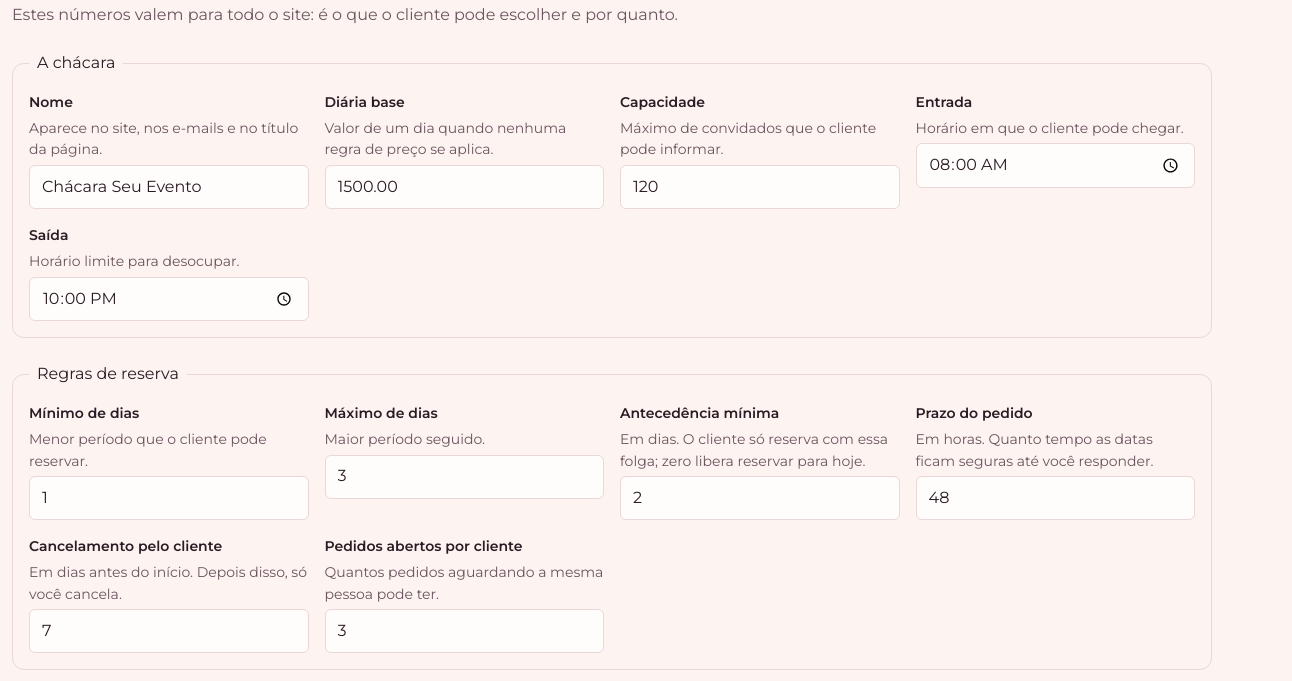
Scenario: SettingsPage › salva e avisa
Replace the text in the number field labelled "Capacidade" with "90" at (760, 187), box [620,165,900,209]
(page scrolled)
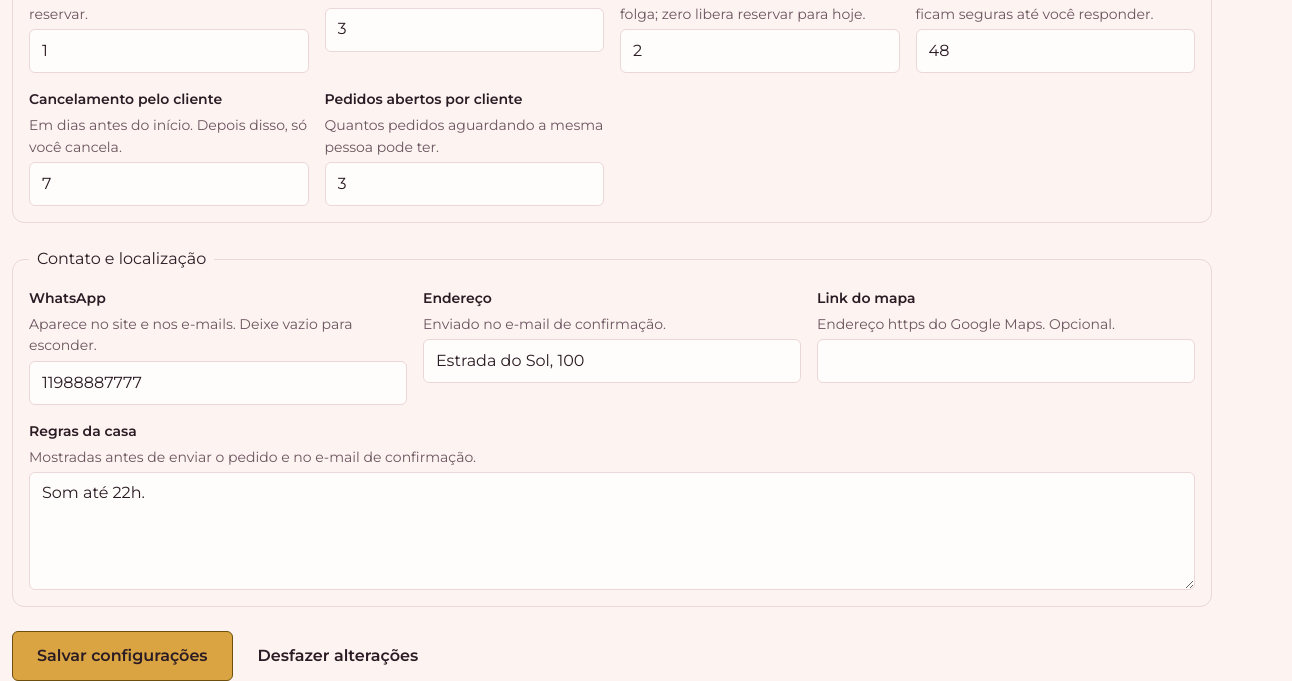
Click the button "Salvar configurações".
click(122, 656)  # box [12,631,233,680]
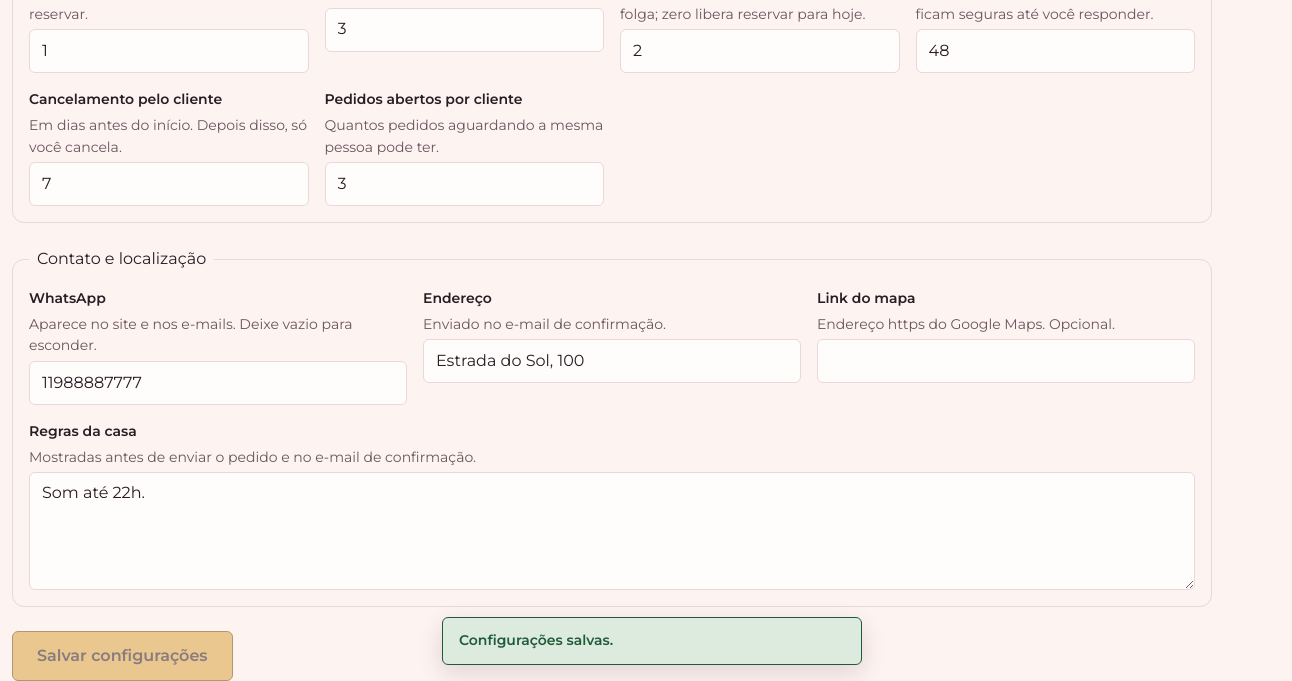
Check: the text "Configurações salvas." is shown, box [442,617,862,665]
